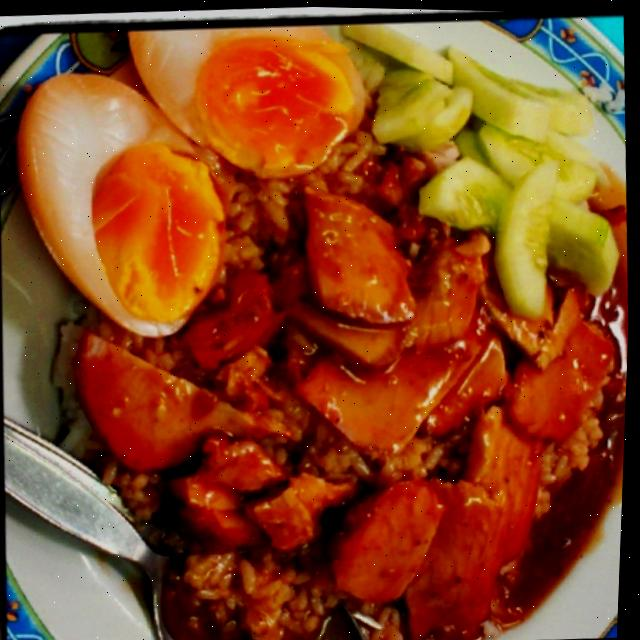猪肉菜式: (12, 15, 640, 640)
